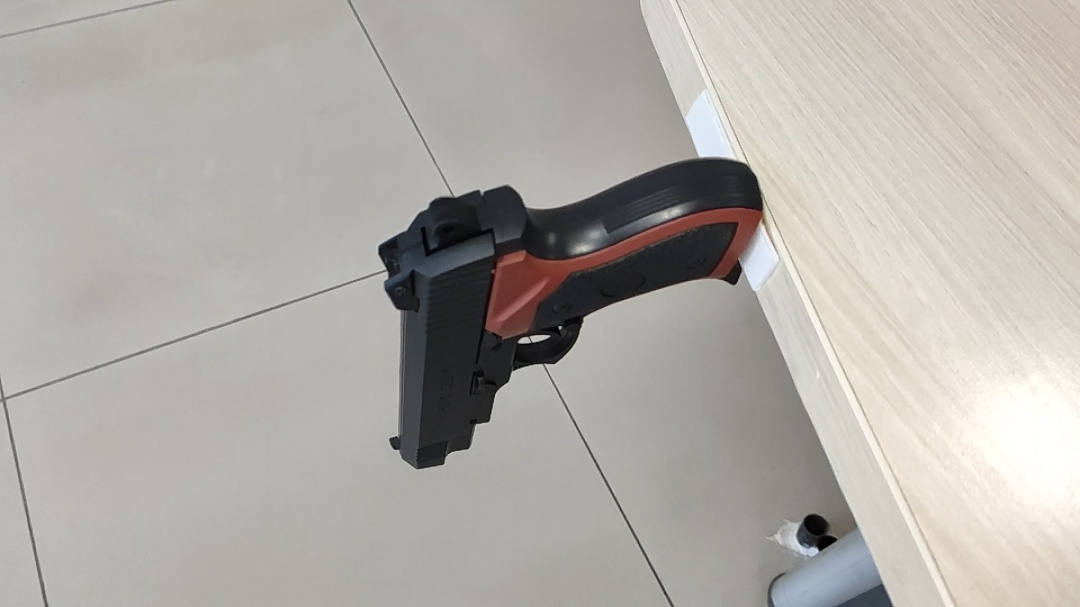gun: (585, 236, 732, 318)
